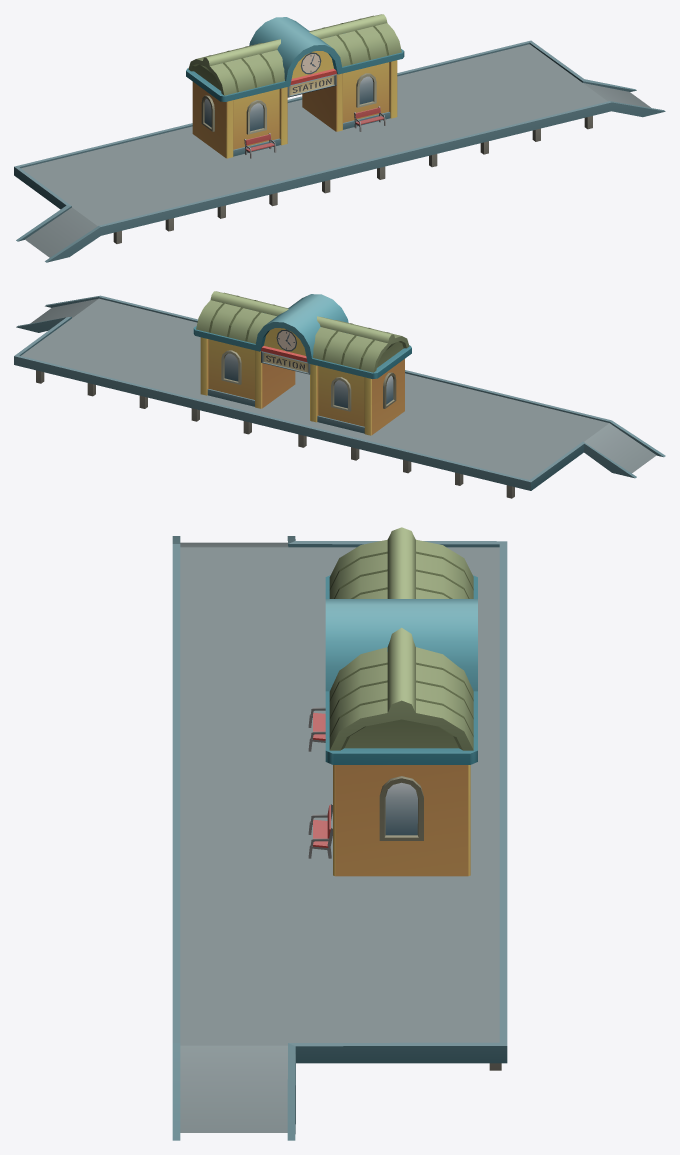
File: Train_Station_B.fbx
3 renders of one model, top to bottom at view 1: azimuth 30°, elevation 25°; view 2: azimuth 150°, elevation 25°; view 3: azimuth 270°, elevation 25°, orthographic. The views are drawn at different scales.
Parts seen in each view (by area): view 1: Train_Station_B; view 2: Train_Station_B; view 3: Train_Station_B.
Boxes of the visible parts, box(x1,y1,x2,y2) form: Train_Station_B: box(14, 14, 665, 262); Train_Station_B: box(14, 291, 665, 498); Train_Station_B: box(172, 527, 507, 1140).
Size of the model in its own units: 4141 by 734 by 969.
